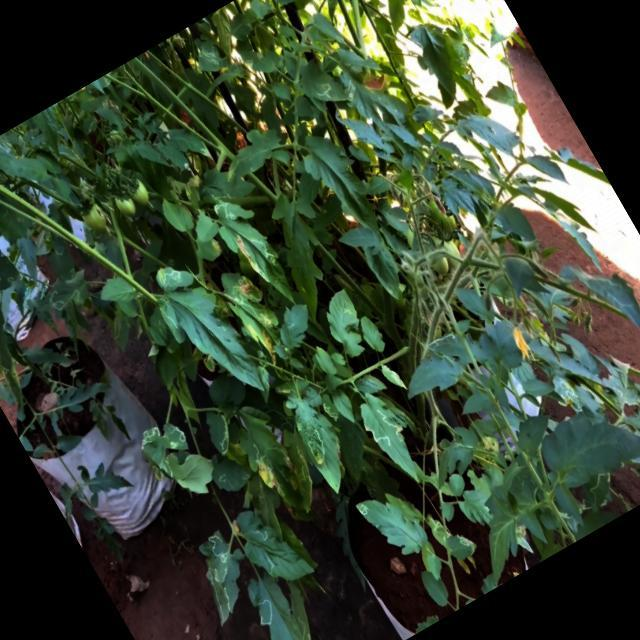Tomato target spot leaf: (140, 249, 270, 417), (222, 397, 322, 528), (206, 189, 304, 320), (214, 260, 308, 388), (226, 494, 316, 598), (350, 385, 430, 493), (178, 528, 263, 628), (237, 567, 334, 640), (356, 481, 434, 569), (264, 424, 336, 514), (132, 408, 208, 484), (0, 303, 50, 411), (332, 62, 396, 146), (418, 419, 490, 489), (280, 386, 340, 466), (315, 288, 378, 363), (288, 50, 352, 121), (29, 262, 100, 326), (192, 153, 258, 215), (352, 448, 408, 514), (424, 320, 486, 378), (273, 578, 329, 640), (548, 363, 602, 423), (202, 442, 255, 498), (270, 300, 324, 354), (570, 466, 624, 516), (197, 406, 242, 458), (189, 39, 229, 80), (442, 526, 480, 564), (422, 509, 454, 552), (264, 398, 299, 436), (0, 243, 24, 297), (317, 391, 343, 423)
